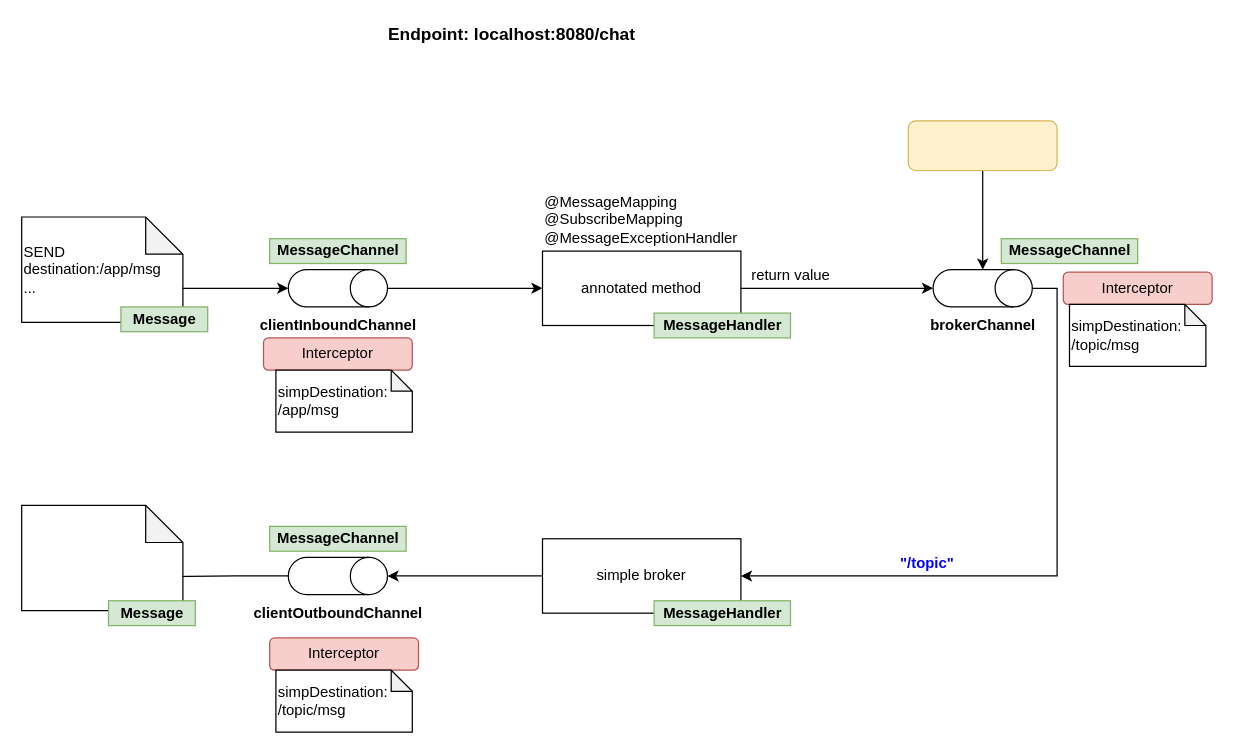
This 1234x754 diagram has some shape labels left out. Each missing label, with the centre of its shape:
"MESSAGE destination:/topic/msg ..." belongs at (101,557).
"Simp" belongs at (982,145).
